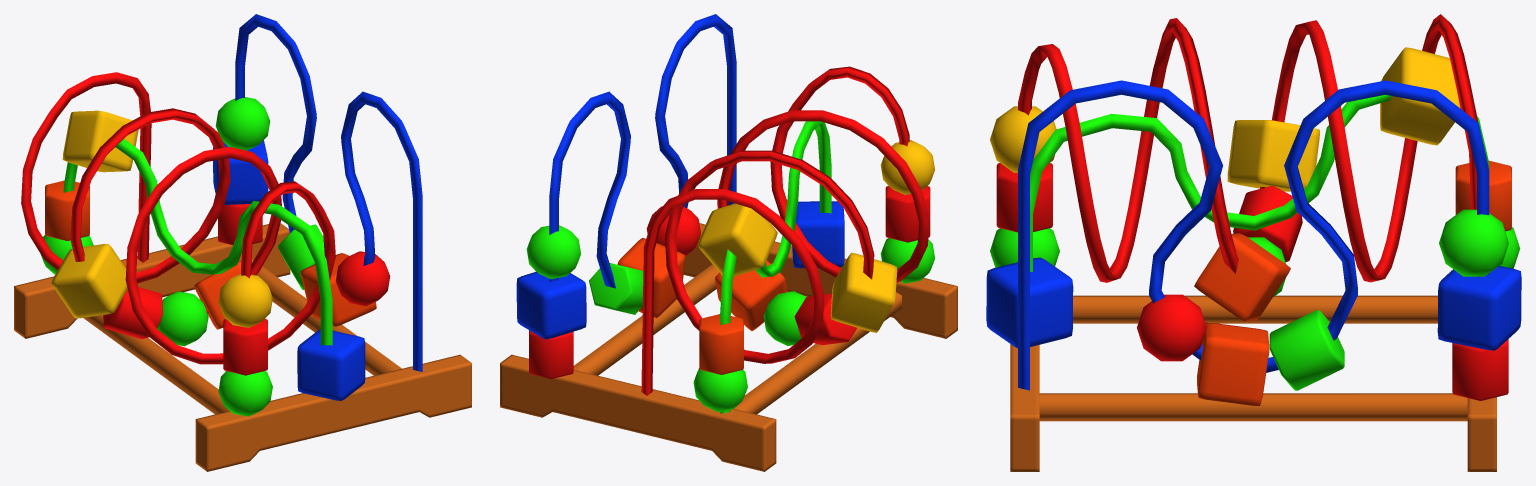
The model's file is ize_01.FBX.
3 renders of one model, left to right at view 1: azimuth 30°, elevation 25°; view 2: azimuth 150°, elevation 25°; view 3: azimuth 270°, elevation 25°, orthographic. The views are drawn at different scales.
Visible parts, largest first — view 1: ize_01; view 2: ize_01; view 3: ize_01.
Part boxes in pixels (box(x1,y1,x2,y2)): ize_01: box(14, 14, 471, 471); ize_01: box(500, 14, 957, 471); ize_01: box(986, 14, 1521, 471).
Size of the model in its own units: 2163 by 1918 by 2562.
